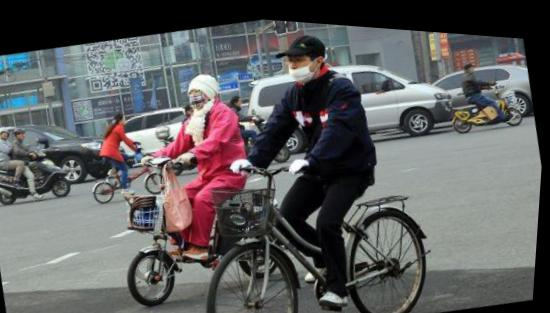OK: (188, 82, 214, 111)
WRONG: (285, 43, 322, 81)
